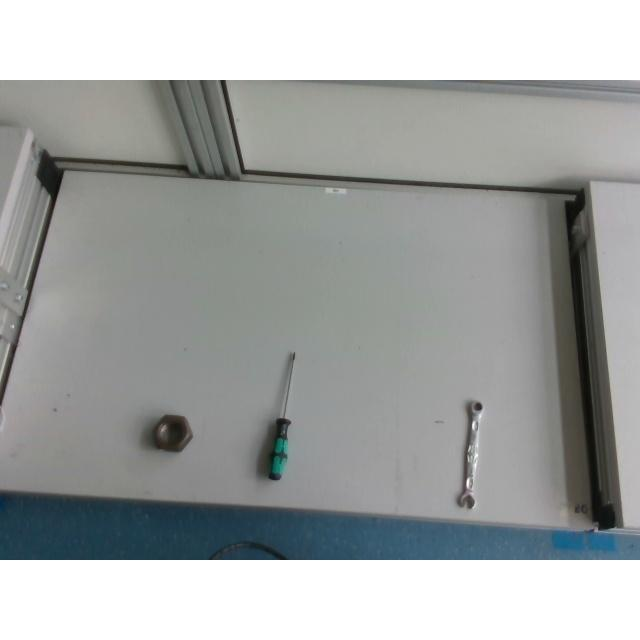M30: (150, 413, 194, 451)
Screwdriver: (267, 352, 297, 481)
Wrench: (456, 399, 484, 508)
